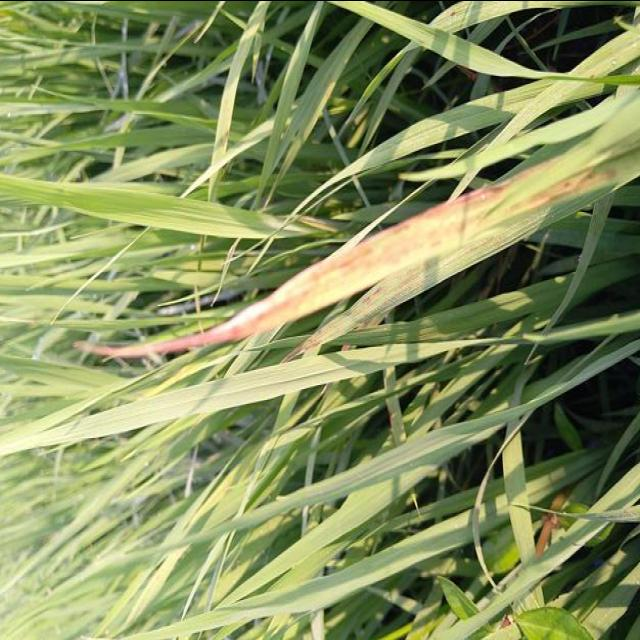Leaf Blight: (76, 159, 609, 355)
